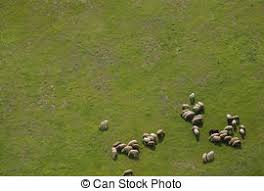sheep: (189, 114, 204, 124), (209, 133, 221, 143), (188, 123, 198, 134), (145, 138, 157, 147), (123, 146, 135, 155), (195, 100, 205, 110), (98, 120, 107, 131), (117, 143, 127, 152), (188, 92, 195, 104), (123, 168, 137, 174), (233, 140, 242, 149), (224, 124, 233, 133), (229, 136, 237, 146), (150, 132, 158, 142), (207, 151, 214, 162), (181, 110, 190, 118), (126, 139, 138, 145), (128, 151, 140, 157), (192, 107, 202, 114), (181, 102, 188, 112), (218, 129, 228, 136), (232, 115, 239, 124), (202, 151, 207, 163), (155, 128, 163, 135), (133, 142, 140, 150), (111, 148, 115, 161), (238, 128, 244, 136), (241, 123, 246, 132), (226, 115, 232, 120), (144, 134, 151, 138)
